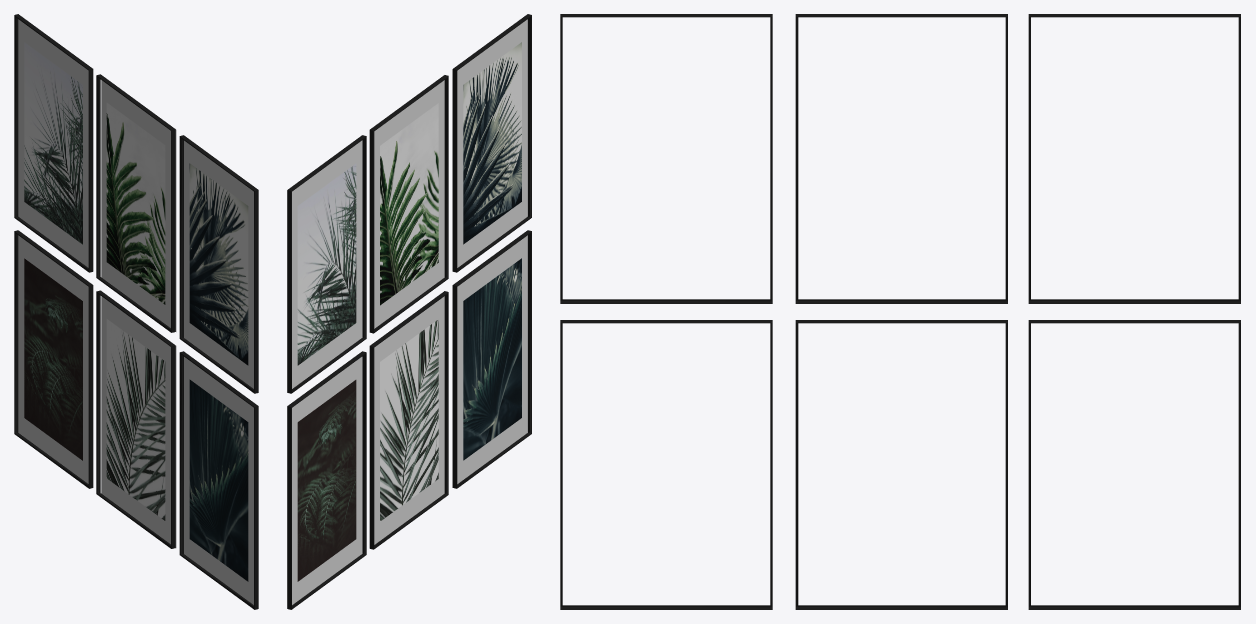
Rendered from Frames_Without_Glass1.glb.
3 renders of one model, left to right at view 1: azimuth 30°, elevation 25°; view 2: azimuth 150°, elevation 25°; view 3: azimuth 270°, elevation 25°, orthographic. The views are drawn at different scales.
Parts seen in each view (by area): view 1: Frames; view 2: Frames; view 3: Frames.
Boxes of the visible parts, bbox=[...] form: Frames: bbox=[14, 14, 258, 609]; Frames: bbox=[287, 14, 531, 609]; Frames: bbox=[560, 14, 1240, 609].
Size of the model in its own units: 0.017 by 1.6 by 1.66.
Materials: 8 (6 with a texture image).
